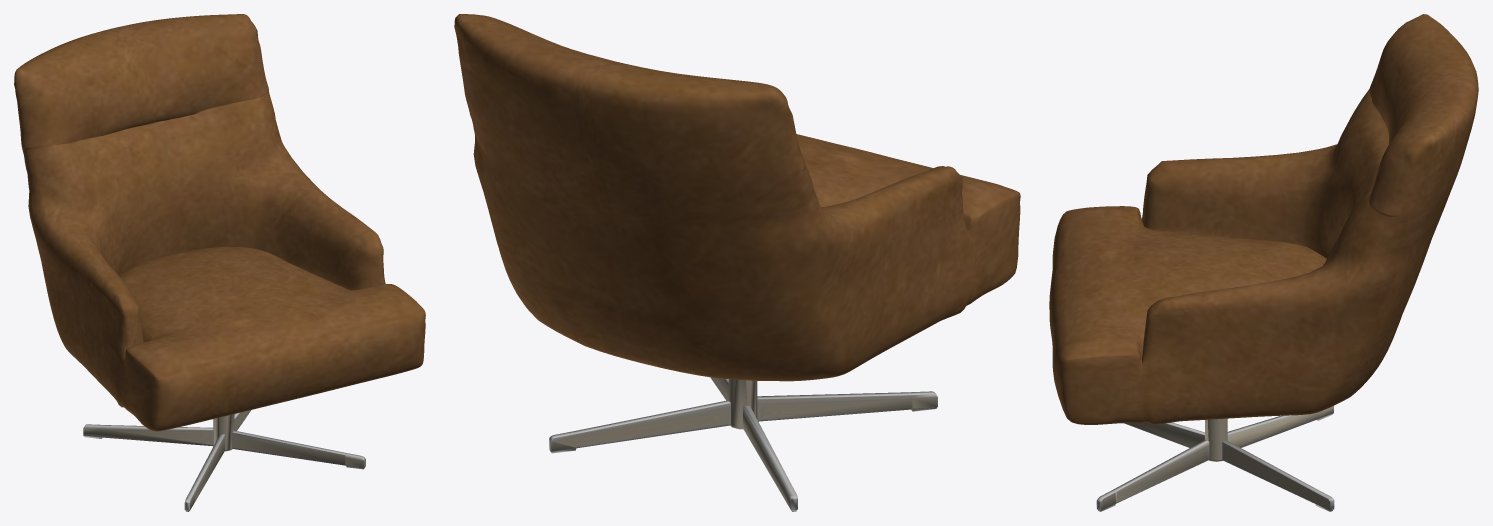
The picture shows the model from 3 angles, left to right: view 1: azimuth 30°, elevation 25°; view 2: azimuth 150°, elevation 25°; view 3: azimuth 270°, elevation 25°; orthographic projection. The views are drawn at different scales.
Parts seen in each view (by area): view 1: RootNode; view 2: RootNode; view 3: RootNode.
Boxes of the visible parts, x1,y1,x2,y2 form: RootNode: [14, 14, 425, 511]; RootNode: [454, 14, 1020, 511]; RootNode: [1049, 14, 1478, 511].
Size of the model in its own units: 0.7249 by 0.864 by 0.8692.
1 material, 1 textured.
